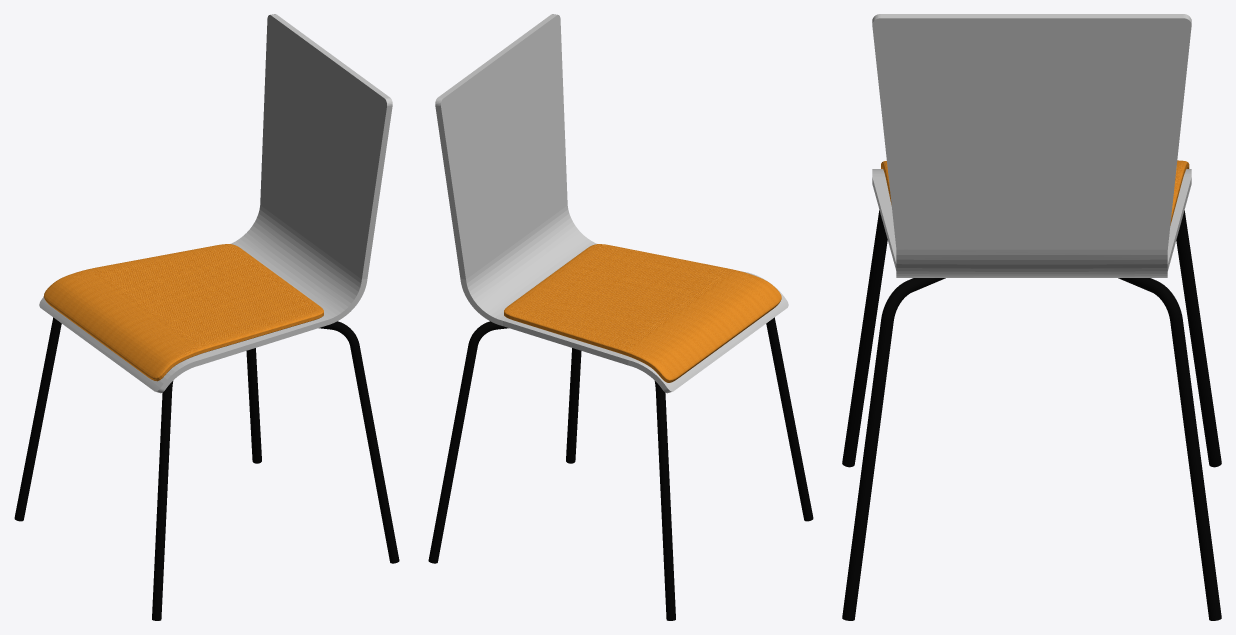
The model's file is orange_chair.dae.
The picture shows the model from 3 angles, left to right: view 1: azimuth 30°, elevation 25°; view 2: azimuth 150°, elevation 25°; view 3: azimuth 270°, elevation 25°; orthographic projection. The views are drawn at different scales.
Visible parts, largest first — view 1: Body, Cube, Foot; view 2: Body, Cube, Foot; view 3: Body, Foot, Cube.
Boxes of the visible parts, left/top/right/bottom form: Body: left=39, top=14, right=392, bottom=393; Cube: left=43, top=244, right=323, bottom=381; Foot: left=14, top=317, right=399, bottom=620; Body: left=435, top=14, right=788, bottom=393; Cube: left=504, top=244, right=781, bottom=382; Foot: left=428, top=317, right=813, bottom=620; Body: left=872, top=14, right=1191, bottom=277; Foot: left=842, top=210, right=1221, bottom=620; Cube: left=881, top=160, right=1189, bottom=225.
Bounding box in the file's own units: 0.4818 × 0.4755 × 0.8387.
